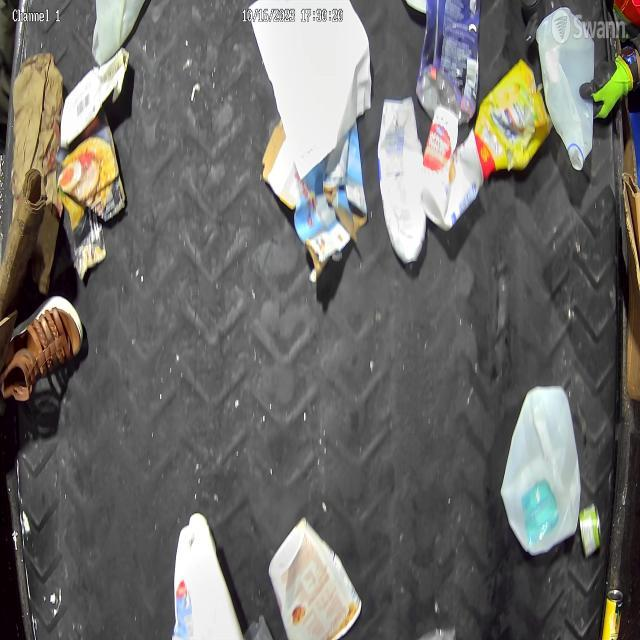milk_jug: (502, 381, 585, 562), (538, 11, 602, 180), (169, 510, 247, 640)
